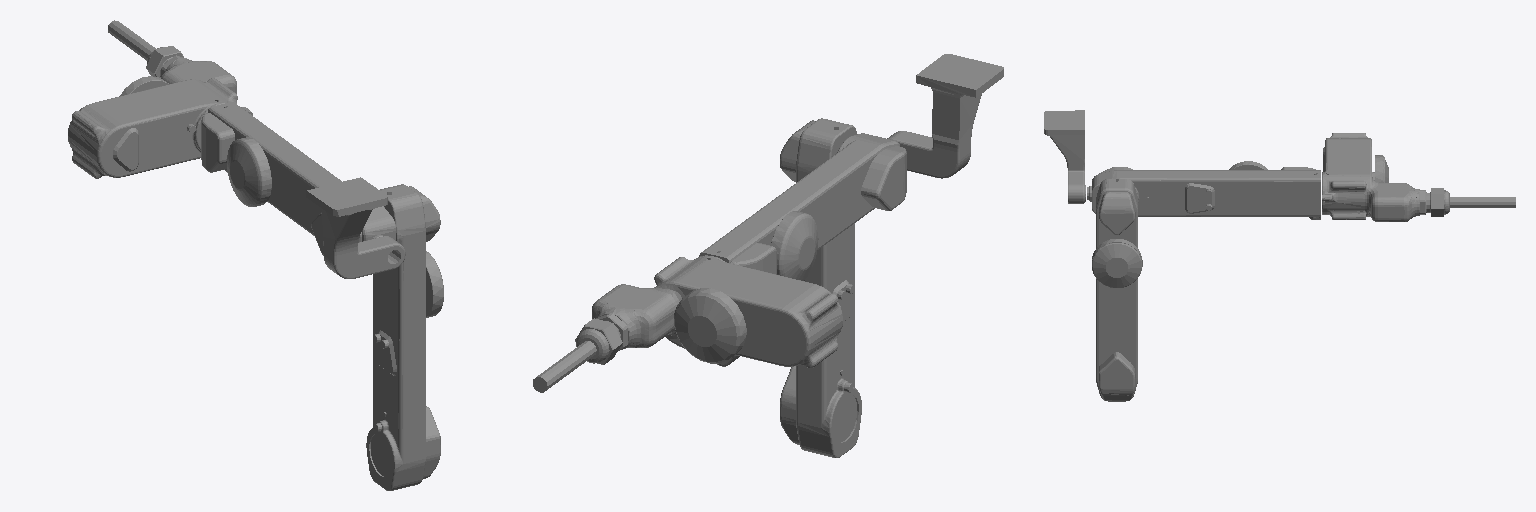
The robot description file, URDF, robot "finger_with_stage":
<?xml version="1.0" encoding="utf-8"?>
<!-- =================================================================================== -->
<!-- |    This document was autogenerated by xacro from [local-path]/ws/fingers/workspace/src/catkin/robots/robot_properties/robot_properties_fingers/xacro/finger_with_stage.urdf.xacro | -->
<!-- |    EDITING THIS FILE BY HAND IS NOT RECOMMENDED                                 | -->
<!-- =================================================================================== -->
<robot name="finger_with_stage">
  <!--
    Frames are defined such that they all align with the base frame when all
    joints are at position zero.

    In zero-configuration the origins of all joints are in one line.

    In zero-configuration the origin of the base link is exactly above the
    finger tip which should make it easy to place the finger in the world.
    -->
  <!--
    Frames are defined such that they all align with the base frame when all
    joints are at position zero.

    In zero-configuration the origins of all joints are in one line.

    In zero-configuration the origin of the base link is exactly above the
    finger tip which should make it easy to place the finger in the world.
    -->
  <material name="finger_material">
    <color rgba="0.6 0.6 0.6 1.0"/>
  </material>
  <!--
        Fixed links for the finger base (parts where the upper link is mounted).
        -->
  <link name="finger_base_link">
    <visual>
      <origin rpy="0 0 0" xyz="0 0.179 0"/>
      <geometry>
        <mesh filename="package://robot_properties_fingers/meshes/stl/SIM__BL-Finger_Base.obj" scale="1 1 1"/>
      </geometry>
      <material name="finger_material"/>
    </visual>
    <collision>
      <origin rpy="0 0 0" xyz="0 0.179 0"/>
      <geometry>
        <mesh filename="package://robot_properties_fingers/meshes/stl/SIM__BL-Finger_Base.obj" scale="1 1 1"/>
      </geometry>
    </collision>
    <inertial>
      <origin rpy="0 0 0" xyz="0 0 0"/>
      <mass value="1"/>
      <inertia ixx="0.000416666666667" ixy="0" ixz="0" iyy="0.000416666666667" iyz="0" izz="0.000416666666667"/>
    </inertial>
  </link>
  <!-- base_holder is added in case of single finger -->
  <link name="finger_upper_holder_link">
    <visual>
      <origin rpy="0 0 0" xyz="0 0 0"/>
      <geometry>
        <mesh filename="package://robot_properties_fingers/meshes/stl/BL_Finger_Holder_SIM.obj" scale="1 1 1"/>
      </geometry>
      <material name="finger_material"/>
    </visual>
    <collision>
      <origin rpy="0 0 0" xyz="0 0 0"/>
      <geometry>
        <mesh filename="package://robot_properties_fingers/meshes/stl/BL_Finger_Holder_SIM.obj" scale="1 1 1"/>
      </geometry>
    </collision>
    <!--
                  for some reason this link needs to have some inertia defined,
                  otherwise the model won't show up in gazebo
                -->
    <inertial>
      <origin rpy="0 0 0" xyz="0 0 0"/>
      <mass value="0.5"/>
      <inertia ixx="0.000208333333333" ixy="0" ixz="0" iyy="0.000208333333333" iyz="0" izz="0.000208333333333"/>
    </inertial>
  </link>
  <joint name="finger_base_to_holder" type="fixed">
    <parent link="finger_base_link"/>
    <child link="finger_upper_holder_link"/>
    <origin rpy="0 0 0" xyz="0 -0.02695 0"/>
  </joint>
  <!-- The movable links (upper, middle and lower) of the finger. -->
  <!-- TODO inertia parameters don't look correct, they cant be same for upper and middle! -->
  <link name="finger_upper_link">
    <visual>
      <origin rpy="0 0 0" xyz="0 -0.02695 0"/>
      <geometry>
        <mesh filename="package://robot_properties_fingers/meshes/stl/SIM__BL-Finger_Proximal.obj" scale="1 1 1"/>
      </geometry>
      <material name="finger_material"/>
    </visual>
    <collision>
      <origin rpy="0 0 0" xyz="0 -0.02695 0"/>
      <geometry>
        <mesh filename="package://robot_properties_fingers/meshes/stl/SIM__BL-Finger_Proximal.obj" scale="1 1 1"/>
      </geometry>
    </collision>
    <inertial>
      <origin rpy="0 0 0" xyz="0 0.06 0"/>
      <mass value="0.2"/>
      <inertia ixx="0.000353333333333" ixy="0" ixz="0" iyy="5.33333333333e-05" iyz="0" izz="0.000353333333333"/>
    </inertial>
  </link>
  <link name="finger_middle_link">
    <visual>
      <origin rpy="1.57079632679 0 0" xyz="0.014 0 0"/>
      <geometry>
        <mesh filename="package://robot_properties_fingers/meshes/stl/SIM__BL-Finger_Intermediate.obj" scale="1 1 1"/>
      </geometry>
      <material name="finger_material"/>
    </visual>
    <collision>
      <origin rpy="1.57079632679 0 0" xyz="0.014 0 0"/>
      <geometry>
        <mesh filename="package://robot_properties_fingers/meshes/stl/SIM__BL-Finger_Intermediate.obj" scale="1 1 1"/>
      </geometry>
    </collision>
    <inertial>
      <origin rpy="0 0 0" xyz="0.028 0 -0.08"/>
      <mass value="0.2"/>
      <inertia ixx="0.000353333333333" ixy="0" ixz="0" iyy="0.000353333333333" iyz="0" izz="5.33333333333e-05"/>
    </inertial>
  </link>
  <link name="finger_lower_link">
    <visual>
      <origin rpy="1.57079632679 0 0" xyz="0.014 0 0"/>
      <geometry>
        <mesh filename="package://robot_properties_fingers/meshes/stl/SIM_BL_FINGER_TIP_LINK.stl" scale="1 1 1"/>
      </geometry>
      <material name="finger_material"/>
    </visual>
    <collision>
      <origin rpy="1.57079632679 0 0" xyz="0.014 0 0"/>
      <geometry>
        <mesh filename="package://robot_properties_fingers/meshes/stl/SIM_BL_FINGER_TIP_LINK.stl" scale="1 1 1"/>
      </geometry>
    </collision>
    <visual>
      <origin rpy="0 0 0" xyz="0 0 -0.16"/>
      <geometry>
        <mesh filename="package://robot_properties_fingers/meshes/stl/finger_padding.stl" scale="1 1 1"/>
      </geometry>
      <material name="finger_material"/>
    </visual>
    <collision>
      <origin rpy="0 0 0" xyz="0 0 -0.16"/>
      <geometry>
        <mesh filename="package://robot_properties_fingers/meshes/stl/finger_padding.stl" scale="1 1 1"/>
      </geometry>
    </collision>
    <inertial>
      <origin rpy="0 0 0" xyz="0 0 -0.06"/>
      <mass value="0.01"/>
      <inertia ixx="1.66666666667e-05" ixy="0" ixz="0" iyy="1.66666666667e-05" iyz="0" izz="6.66666666667e-07"/>
    </inertial>
  </link>
  <!-- fixed link for finger tip -->
  <link name="finger_tip_link">
    <inertial>
      <origin rpy="0 0 0" xyz="0 0 0"/>
      <mass value="0.002"/>
      <inertia ixx="3.33333333333e-08" ixy="0" ixz="0" iyy="3.33333333333e-08" iyz="0" izz="3.33333333333e-08"/>
    </inertial>
  </link>
  <joint name="finger_lower_to_tip_joint" type="fixed">
    <parent link="finger_lower_link"/>
    <child link="finger_tip_link"/>
    <origin xyz="0 0 -0.16"/>
  </joint>
  <!-- kinematics -->
  <!-- TODO: joint limits are based on values from wiki
        (https://atlas.is.localnet/confluence/display/AMDW/Forward+Kinematics) but
        should be verified on the real system (especially the finger tip limits look
        a bit too big when visualizing the model. -->
  <joint name="finger_base_to_upper_joint" type="revolute">
    <parent link="finger_base_link"/>
    <child link="finger_upper_link"/>
    <limit effort="1000" lower="-1.57079632679" upper="1.57079632679" velocity="1000"/>
    <axis xyz="0 1 0"/>
    <origin rpy="0 0 0" xyz="0 0 0"/>
  </joint>
  <joint name="finger_upper_to_middle_joint" type="revolute">
    <parent link="finger_upper_link"/>
    <child link="finger_middle_link"/>
    <limit effort="1000" lower="-1.3526301703" upper="4.49422282389" velocity="1000"/>
    <axis xyz="-1 0 0"/>
    <origin rpy="0 0 0" xyz="0 0 0"/>
  </joint>
  <joint name="finger_middle_to_lower_joint" type="revolute">
    <parent link="finger_middle_link"/>
    <child link="finger_lower_link"/>
    <limit effort="1000" lower="-3.00196631343" upper="3.00196631343" velocity="1000"/>
    <axis xyz="1 0 0"/>
    <origin rpy="0 0 0" xyz="0 0 -0.16"/>
  </joint>
  <!--
    Define the global base link and place the finger relative to it.
    -->
  <link name="base_link">
    <inertial>
      <origin rpy="0 0 0" xyz="0 0 0"/>
      <mass value="1"/>
      <inertia ixx="4.16666666667e-06" ixy="0" ixz="0" iyy="4.16666666667e-06" iyz="0" izz="4.16666666667e-06"/>
    </inertial>
  </link>
  <joint name="base_to_finger" type="fixed">
    <parent link="base_link"/>
    <child link="finger_base_link"/>
    <origin xyz="0 0 0.34"/>
  </joint>
  <material name="stage_material">
    <color rgba="0.8 0.8 0.8 1.0"/>
  </material>
  <!-- add the "stage" -->
  <link name="stage_link">
    <visual>
      <origin rpy="0 0 0" xyz="0 0 0"/>
      <geometry>
        <mesh filename="package://robot_properties_fingers/meshes/stl/Stage_simplified.stl" scale="1 1 1"/>
      </geometry>
      <material name="stage_material"/>
    </visual>
    <collision>
      <origin rpy="0 0 0" xyz="0 0 0"/>
      <geometry>
        <mesh filename="package://robot_properties_fingers/meshes/stl/Stage_simplified.stl" scale="1 1 1"/>
      </geometry>
    </collision>
    <inertial>
      <origin rpy="0 0 0" xyz="0 0 0"/>
      <mass value="1"/>
      <inertia ixx="0.00770833333333" ixy="0" ixz="0" iyy="0.00770833333333" iyz="0" izz="0.015"/>
    </inertial>
  </link>
  <!-- Place the stage relative to the global base link. -->
  <joint name="base_to_stage" type="fixed">
    <parent link="base_link"/>
    <child link="stage_link"/>
    <origin xyz="0 0 0"/>
  </joint>
</robot>

--- What the picture shows (computed from the rendered views, not written in the file) ---
Views: 3 orthographic renders of the robot side by side, from view 1: azimuth 30°, elevation 25°; view 2: azimuth 150°, elevation 25°; view 3: azimuth 270°, elevation 25°.
Robot: finger_with_stage — 8 links, 7 joints (3 revolute, 4 fixed); root link base_link; default pose: all joints at 0.
Visible links, largest first — view 1: finger_middle_link, finger_base_link, finger_upper_link, finger_upper_holder_link; view 2: finger_base_link, finger_upper_link, finger_middle_link, finger_upper_holder_link; view 3: finger_upper_link, finger_middle_link, finger_base_link, finger_upper_holder_link.
Link boxes in pixels (left/top/right/bottom): finger_middle_link: left=366, top=184, right=443, bottom=490; finger_base_link: left=68, top=20, right=252, bottom=178; finger_upper_link: left=201, top=102, right=395, bottom=255; finger_upper_holder_link: left=306, top=177, right=405, bottom=278; finger_base_link: left=533, top=255, right=842, bottom=392; finger_upper_link: left=699, top=133, right=906, bottom=280; finger_middle_link: left=780, top=118, right=861, bottom=457; finger_upper_holder_link: left=887, top=54, right=1003, bottom=178; finger_upper_link: left=1087, top=161, right=1320, bottom=219; finger_middle_link: left=1092, top=178, right=1142, bottom=401; finger_base_link: left=1322, top=133, right=1515, bottom=221; finger_upper_holder_link: left=1044, top=110, right=1085, bottom=203.
Bounding box of the posed robot: 0.1418 × 0.4084 × 0.2356 m (x, y, z).
4 mesh visuals loaded from 7 distinct referenced files (4 OBJ); not drawn: 3 (reference not matched to a file when rendering).
